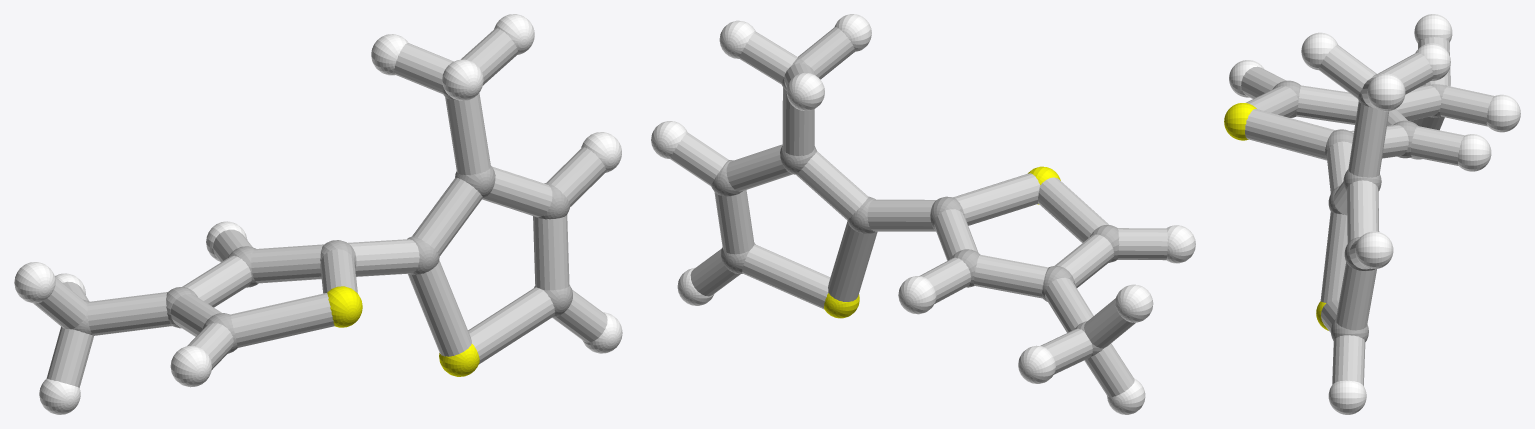
The model's file is Methylthiophene_Phi_20_Theta_270_Methylthiophene.glb.
3 views of the same model, side by side, from view 1: azimuth 30°, elevation 25°; view 2: azimuth 150°, elevation 25°; view 3: azimuth 270°, elevation 25° (orthographic). The views are drawn at different scales.
Parts seen in each view (by area): view 1: grp7965, grp3621, grp1, grp7241; view 2: grp7965, grp3621, grp1, grp7241; view 3: grp7965, grp3621, grp1, grp7241.
Part boxes in pixels (x1,y1,x2,y2): grp7965: (33, 28, 607, 387); grp3621: (14, 14, 622, 414); grp1: (72, 87, 572, 353); grp7241: (327, 286, 479, 376); grp7965: (670, 27, 1167, 397); grp3621: (651, 14, 1195, 414); grp1: (711, 58, 1119, 356); grp7241: (824, 166, 1060, 318); grp7965: (1241, 37, 1493, 385); grp3621: (1229, 14, 1520, 414); grp1: (1272, 74, 1447, 341); grp7241: (1224, 103, 1328, 330).
Bounding box in the file's own units: 9.5 × 5.39 × 4.67.
